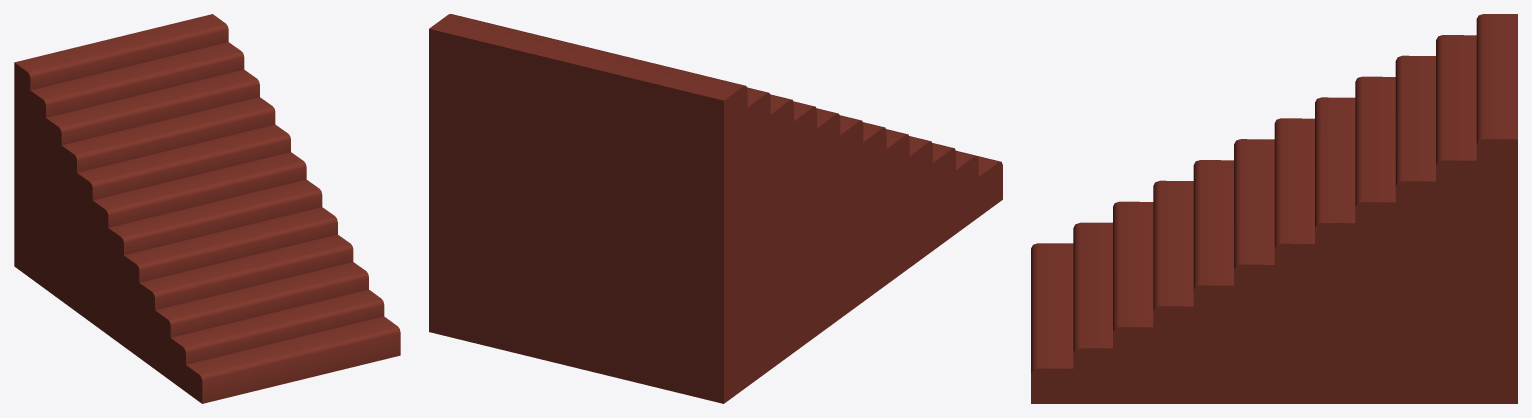
Rendered from stairs_001.fbx.
3 renders of one model, left to right at view 1: azimuth 30°, elevation 25°; view 2: azimuth 150°, elevation 25°; view 3: azimuth 270°, elevation 25°, orthographic. The views are drawn at different scales.
Visible parts, largest first — view 1: stairs_001; view 2: stairs_001; view 3: stairs_001.
Boxes of the visible parts, x1=… form: stairs_001: x1=14, y1=14, x2=400, y2=403; stairs_001: x1=429, y1=14, x2=1002, y2=403; stairs_001: x1=1031, y1=14, x2=1517, y2=403.
Bounding box in the file's own units: 509 × 834 × 500.
